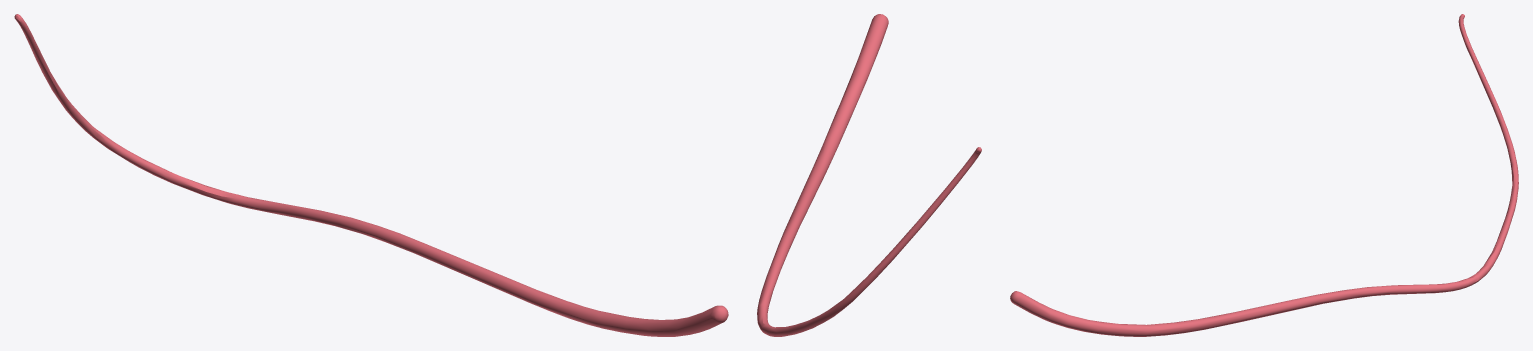
The model's file is fma20801_fj2158.glb.
3 views of the same model, side by side, from view 1: azimuth 30°, elevation 25°; view 2: azimuth 150°, elevation 25°; view 3: azimuth 270°, elevation 25° (orthographic). The views are drawn at different scales.
Parts seen in each view (by area): view 1: FMA20801_FJ2158; view 2: FMA20801_FJ2158; view 3: FMA20801_FJ2158.
Part boxes in pixels (left/top/right/bottom): FMA20801_FJ2158: left=14, top=14, right=728, bottom=336; FMA20801_FJ2158: left=757, top=14, right=981, bottom=336; FMA20801_FJ2158: left=1010, top=14, right=1518, bottom=336.
Size of the model in its own units: 0.0445 by 0.0258 by 0.0631.
